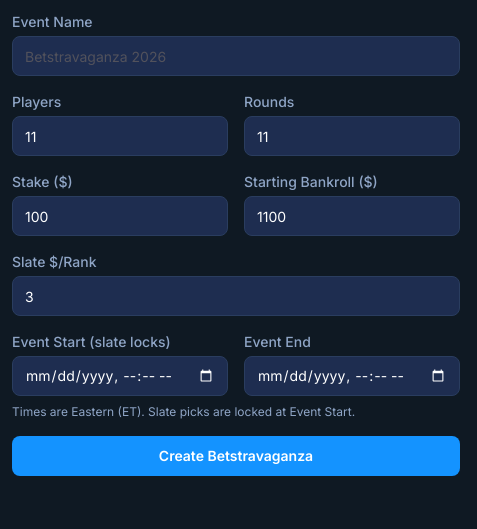
Test: SetupForm › shows error message on failure
Type "Test" into the field labelled "Event Name".
click(236, 56); type("Test")  # box [12, 36, 460, 76]
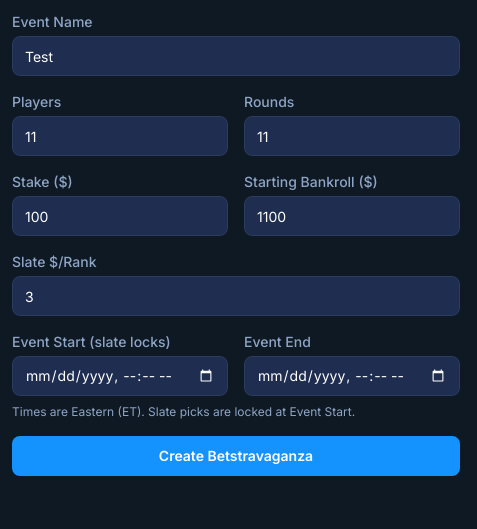
Submit the form named "create"
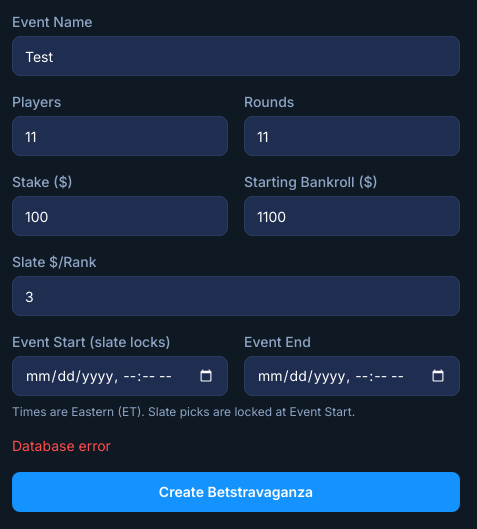
Now the text "Database error" is shown, box [12, 437, 111, 454]
